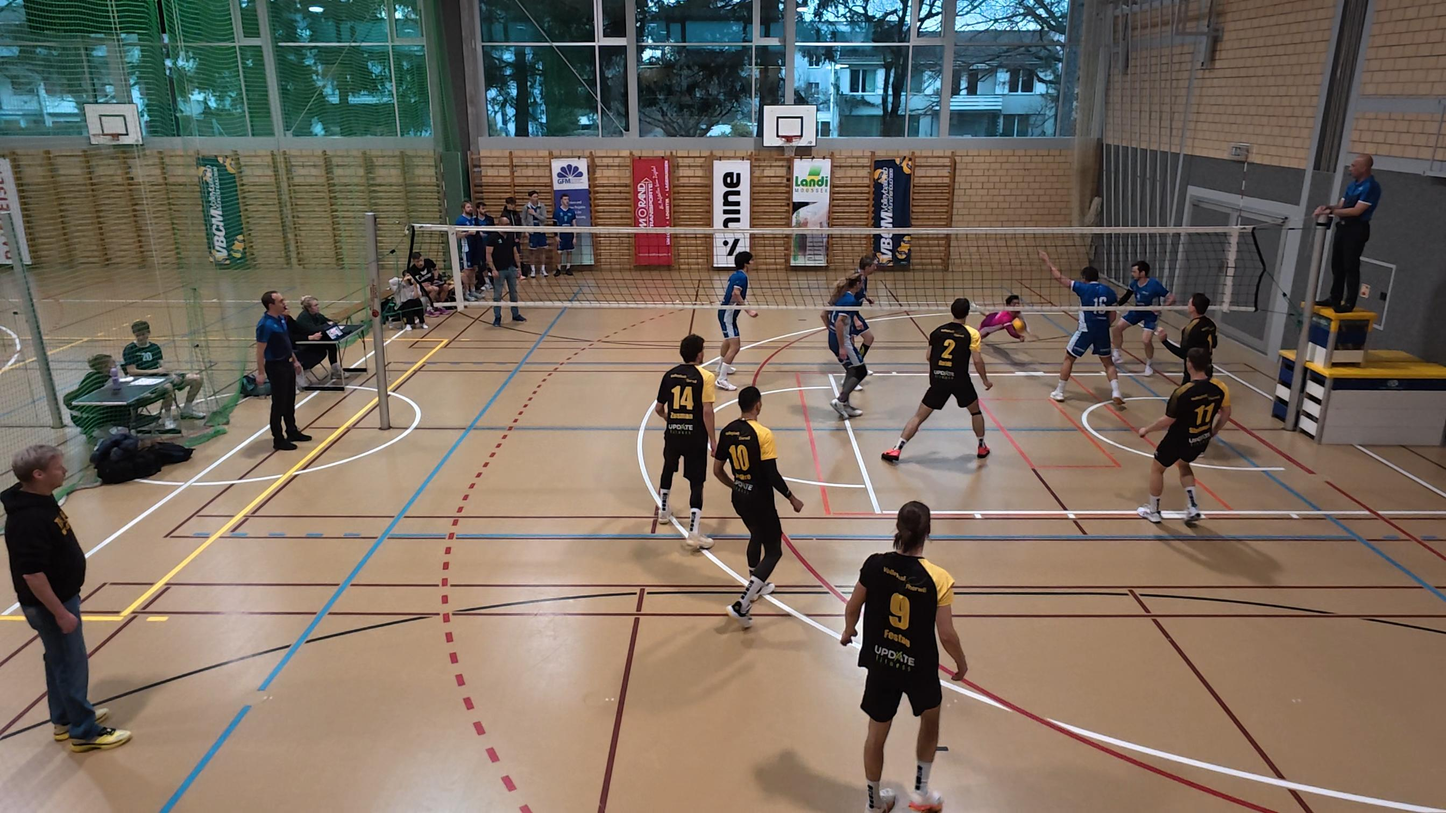Dig: (974, 286, 1034, 354)
Player: (840, 500, 967, 813), (713, 386, 801, 625), (882, 297, 992, 461), (1137, 352, 1228, 526), (654, 332, 719, 551), (1040, 251, 1125, 404), (821, 277, 872, 419), (1112, 260, 1171, 376), (711, 252, 755, 389), (1153, 292, 1218, 381), (820, 247, 886, 305)
ball: (1008, 315, 1029, 338)
